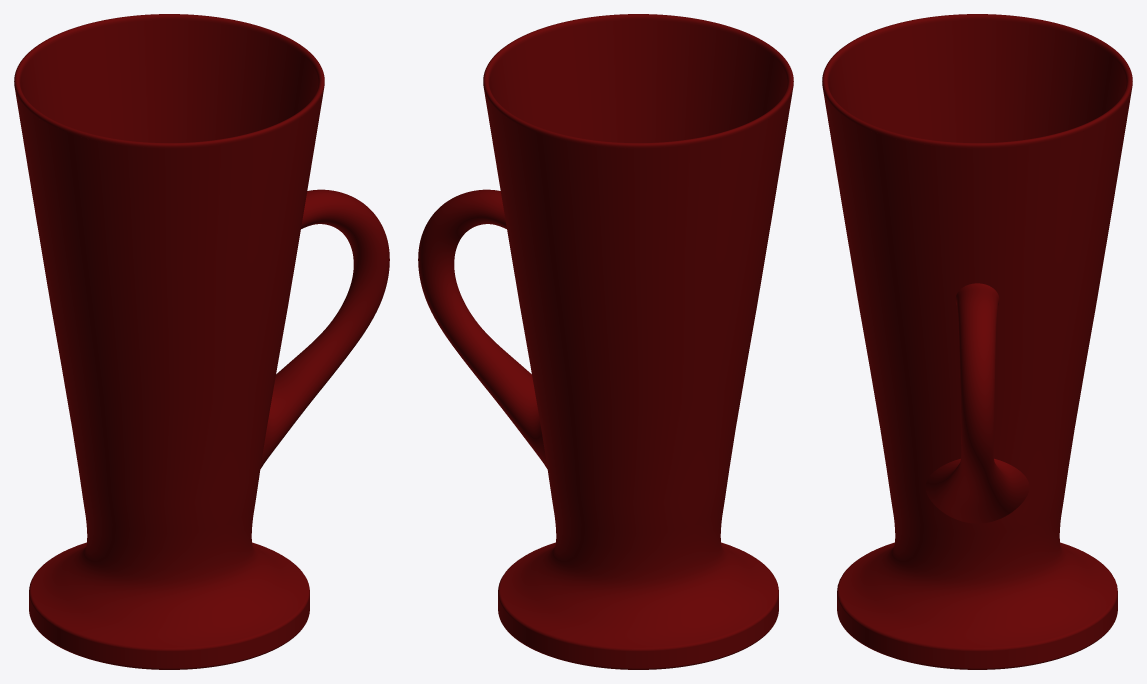
The model's file is prada.glb.
The picture shows the model from 3 angles, left to right: view 1: azimuth 30°, elevation 25°; view 2: azimuth 150°, elevation 25°; view 3: azimuth 270°, elevation 25°; orthographic projection.
Size of the model in its own units: 0.6557 by 0.9464 by 0.5001.
